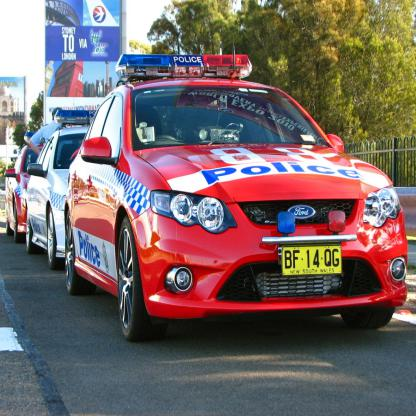Car: (63, 23, 409, 342), (23, 109, 96, 271), (3, 133, 46, 244)
